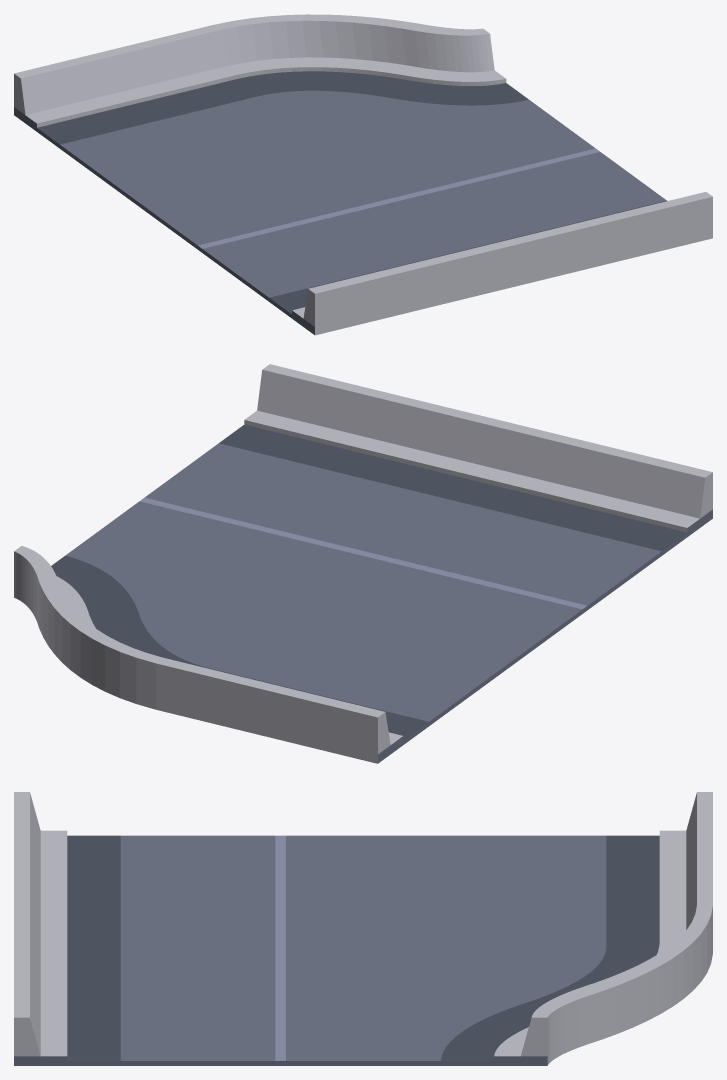
The model's file is road_sideEntry.glb.
3 views of the same model, one above another, from view 1: azimuth 30°, elevation 25°; view 2: azimuth 150°, elevation 25°; view 3: azimuth 270°, elevation 25° (orthographic). The views are drawn at different scales.
Parts seen in each view (by area): view 1: road_sideEntry_d97e62, road_sideEntry_08f07a, road_sideEntry_83e863, road_sideEntry_002e6e, road_sideEntry_88de86; view 2: road_sideEntry_d97e62, road_sideEntry_08f07a, road_sideEntry_83e863, road_sideEntry_002e6e, road_sideEntry_88de86; view 3: road_sideEntry_d97e62, road_sideEntry_83e863, road_sideEntry_08f07a, road_sideEntry_002e6e, road_sideEntry_88de86.
Part boxes in pixels (x1,y1,x2,y2): road_sideEntry_d97e62: [14, 90, 666, 334]; road_sideEntry_08f07a: [14, 14, 712, 326]; road_sideEntry_83e863: [37, 71, 666, 313]; road_sideEntry_002e6e: [26, 57, 712, 335]; road_sideEntry_88de86: [198, 148, 599, 248]; road_sideEntry_d97e62: [65, 443, 712, 763]; road_sideEntry_08f07a: [14, 364, 712, 754]; road_sideEntry_83e863: [51, 424, 686, 740]; road_sideEntry_002e6e: [14, 410, 699, 763]; road_sideEntry_88de86: [140, 497, 586, 609]; road_sideEntry_d97e62: [14, 835, 606, 1065]; road_sideEntry_83e863: [67, 835, 659, 1060]; road_sideEntry_08f07a: [14, 792, 712, 1056]; road_sideEntry_002e6e: [40, 830, 712, 1065]; road_sideEntry_88de86: [275, 835, 285, 1060].
Size of the model in its own units: 1 by 0.1 by 1.31.
